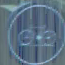bike lane: (3, 3, 61, 56)
